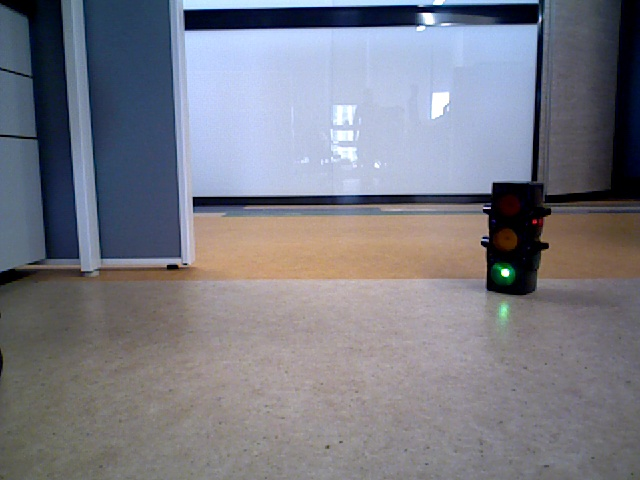green: (489, 185, 532, 286)
